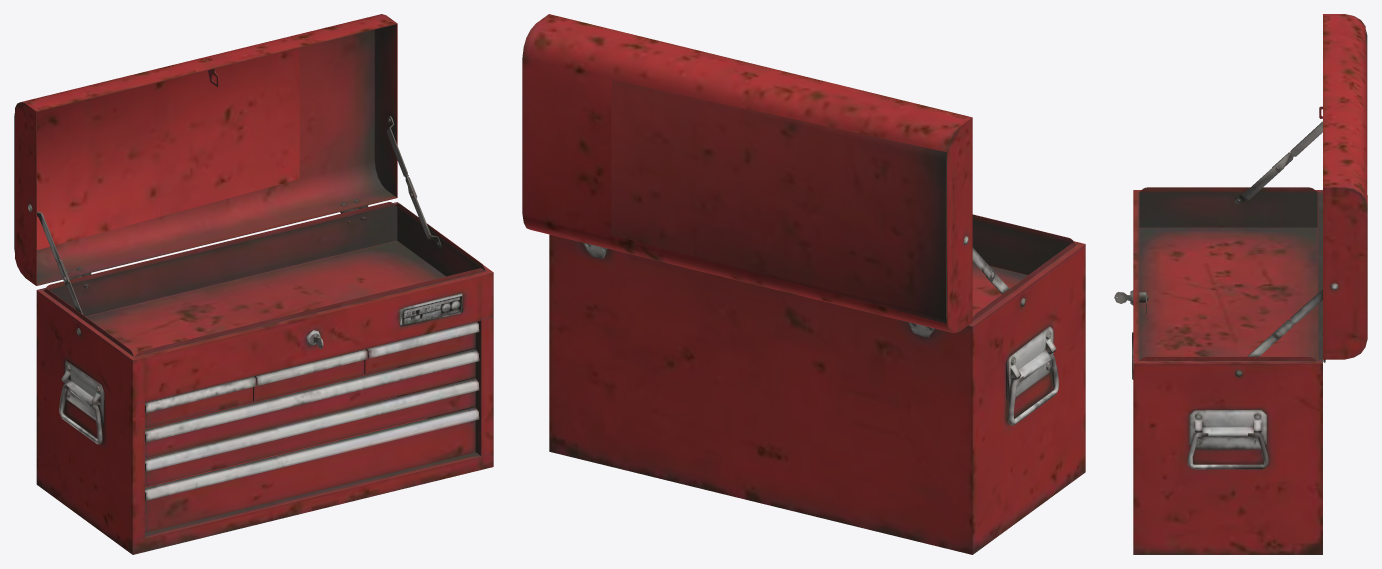
Rendered from metal_tool_chest.glb.
3 views of the same model, side by side, from view 1: azimuth 30°, elevation 25°; view 2: azimuth 150°, elevation 25°; view 3: azimuth 270°, elevation 25° (orthographic). The views are drawn at different scales.
Visible parts, largest first — view 1: metal_tool_chest_chest, metal_tool_chest_lid, metal_tool_chest_hinge_lid, metal_tool_chest_hinge_chest, metal_tool_chest_handle_left; view 2: metal_tool_chest_chest, metal_tool_chest_lid, metal_tool_chest_handle_left; view 3: metal_tool_chest_chest, metal_tool_chest_lid, metal_tool_chest_hinge_lid, metal_tool_chest_hinge_chest, metal_tool_chest_handle_right.
Part boxes in pixels (box(x1,y1,x2,y2)): metal_tool_chest_chest: box(36, 202, 493, 554); metal_tool_chest_lid: box(14, 14, 397, 285); metal_tool_chest_hinge_lid: box(28, 116, 417, 285); metal_tool_chest_hinge_chest: box(59, 175, 441, 335); metal_tool_chest_handle_left: box(59, 383, 102, 444); metal_tool_chest_chest: box(549, 214, 1085, 554); metal_tool_chest_lid: box(522, 14, 972, 333); metal_tool_chest_handle_left: box(1008, 354, 1058, 425); metal_tool_chest_chest: box(1132, 187, 1325, 554); metal_tool_chest_lid: box(1319, 14, 1367, 359); metal_tool_chest_hinge_lid: box(1272, 121, 1338, 340); metal_tool_chest_hinge_chest: box(1234, 152, 1290, 376); metal_tool_chest_handle_right: box(1187, 432, 1268, 469).
Bounding box in the file's own units: 0.6847 × 0.6518 × 0.4072.
Materials: 1 (1 with a texture image).
